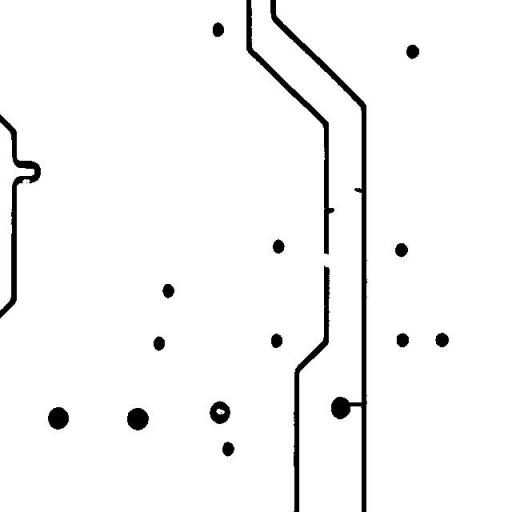mousebite: (14, 171, 38, 191)
open: (312, 245, 340, 274)
pin-hole: (208, 400, 232, 422)
short: (335, 394, 370, 414)
spur: (346, 180, 372, 201), (318, 200, 342, 222)
